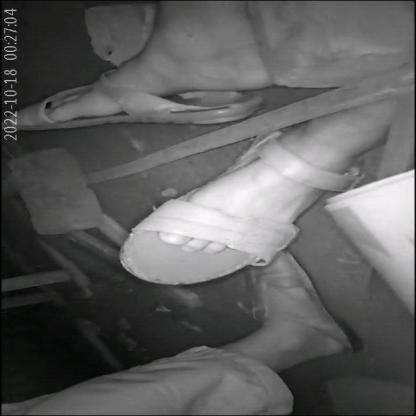leg: (114, 117, 416, 292), (0, 2, 280, 126), (211, 253, 370, 382)
